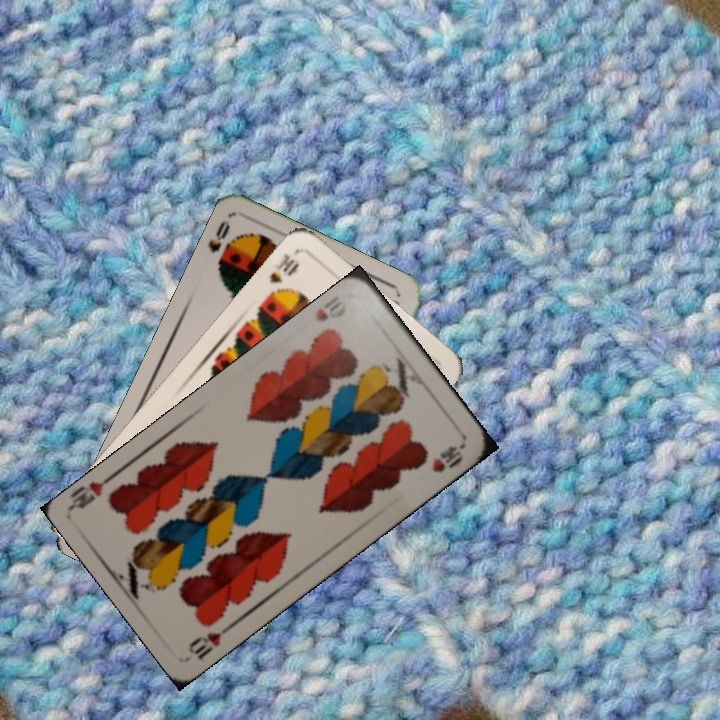H10: (184, 620, 236, 663), (311, 296, 350, 325)
S10: (265, 249, 302, 287)
SO: (204, 216, 237, 274)
